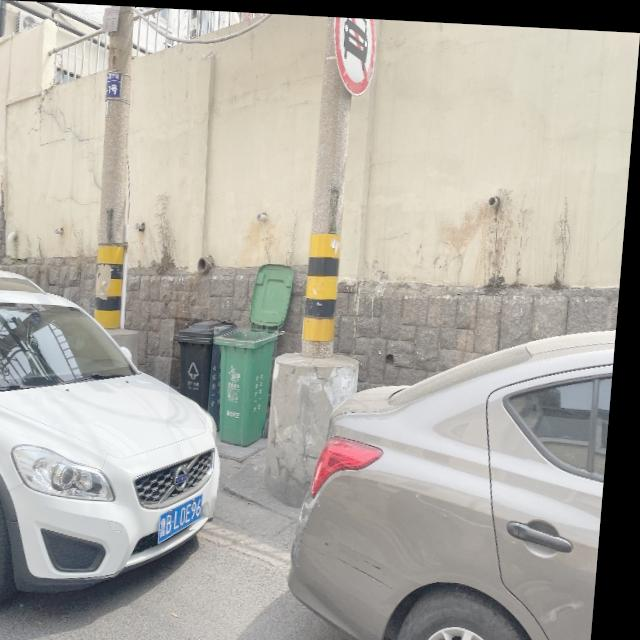garbage_bin: (212, 324, 284, 444), (173, 315, 241, 428)
